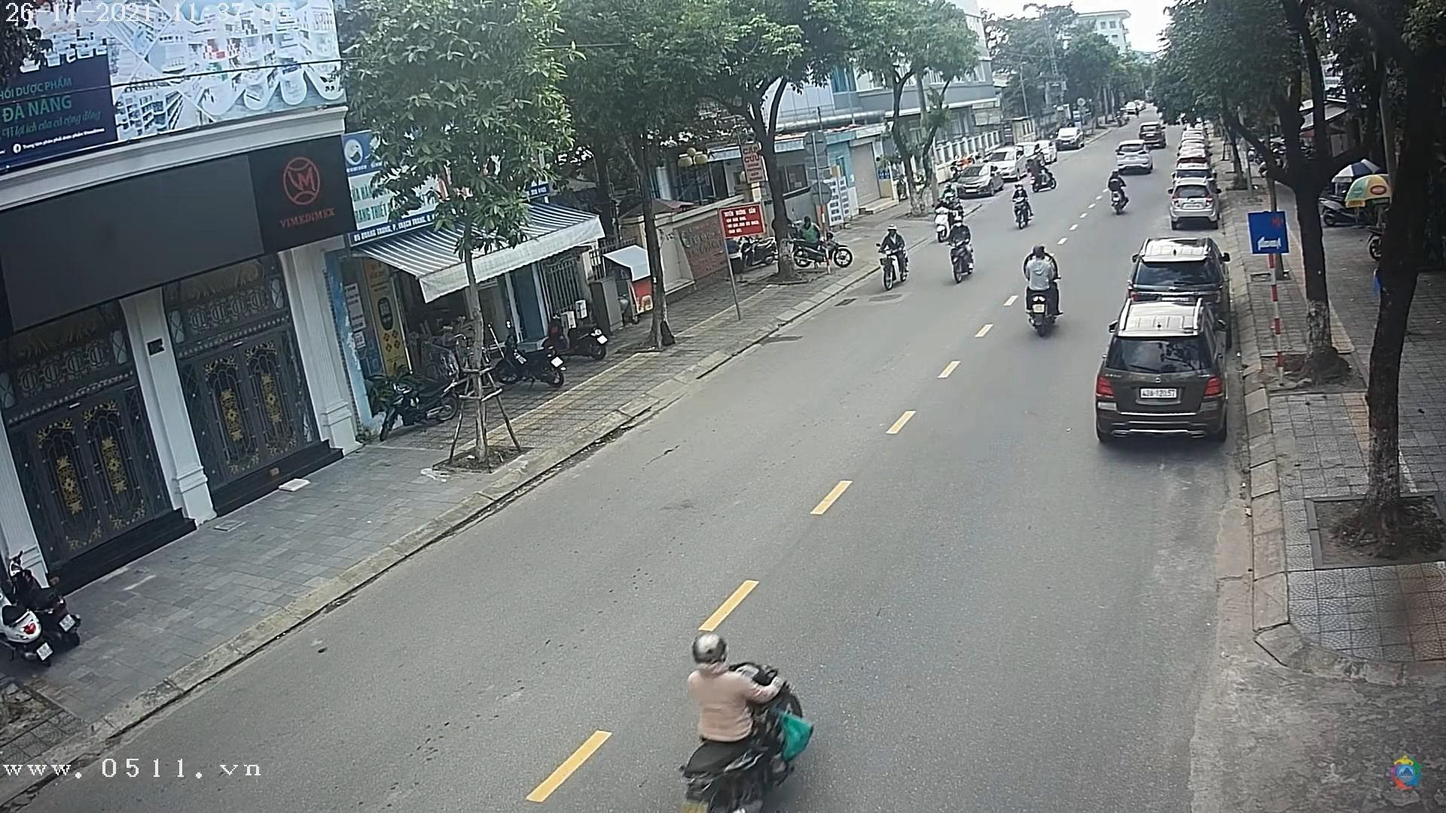car: (1097, 309, 1227, 446), (1130, 236, 1229, 308), (1166, 184, 1220, 230), (1115, 146, 1156, 174), (1169, 165, 1216, 189), (1057, 125, 1091, 150), (1116, 159, 1157, 176)
motorbike: (680, 661, 806, 812), (1023, 277, 1063, 338), (947, 236, 980, 280), (880, 251, 912, 294), (1006, 194, 1036, 229)
